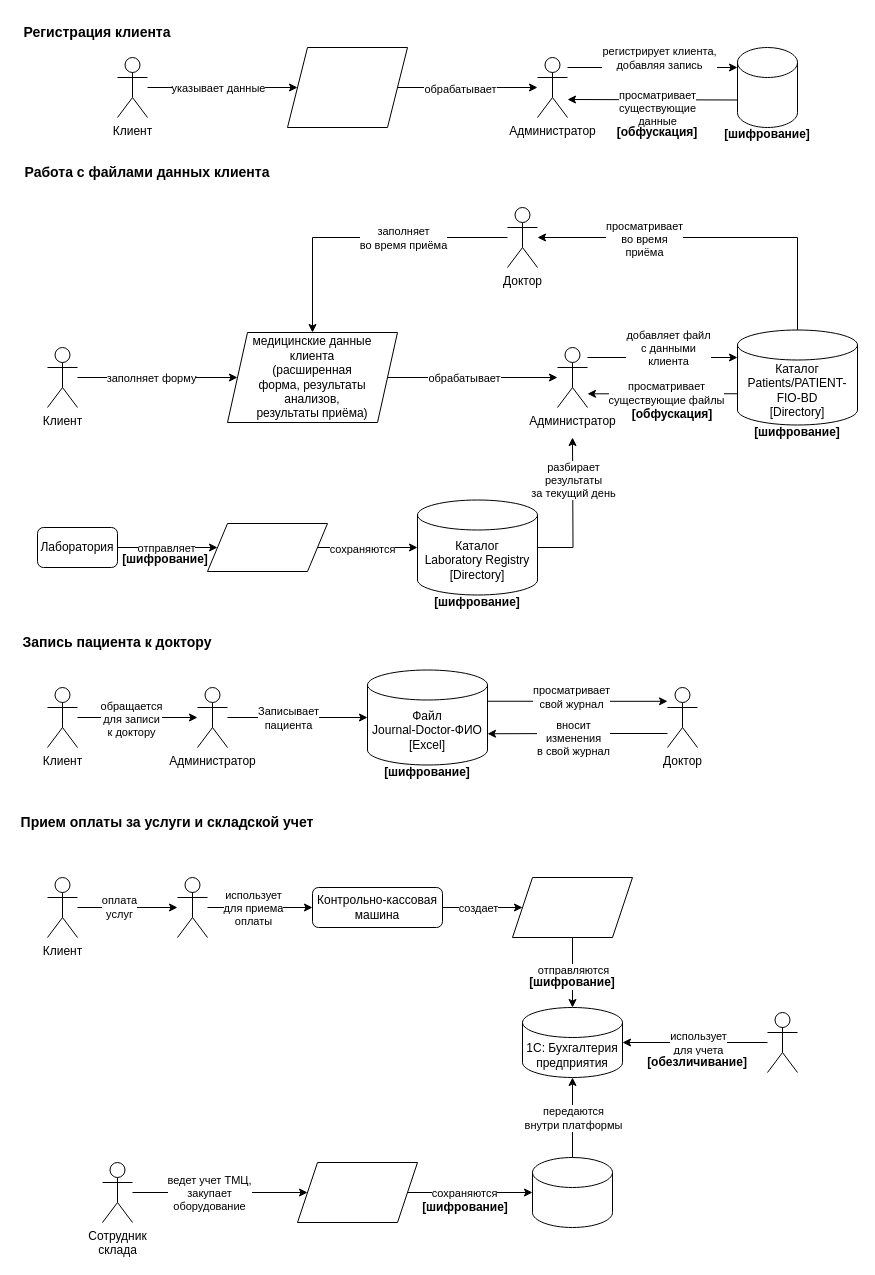
Some shapes in this 875 by 1275 pixel diagram are drawn without their labels. The shapes that lost their labels are listed below. From the top down, each one's centre as x and y in pixels, then its label:
At point 347,87: "персональные данные клиента (ФИО, дата рождения и тд)".
At point 767,87: "файл Patients [Excel]".
At point 267,547: "результаты анализов".
At point 192,907: "Кассир".
At point 572,907: "платежные транзакции".
At point 782,1042: "Бухгалтер".
At point 357,1192: "Данные о товарно-материальных ценностях".
At point 572,1192: "1С: Торговля и склад".
